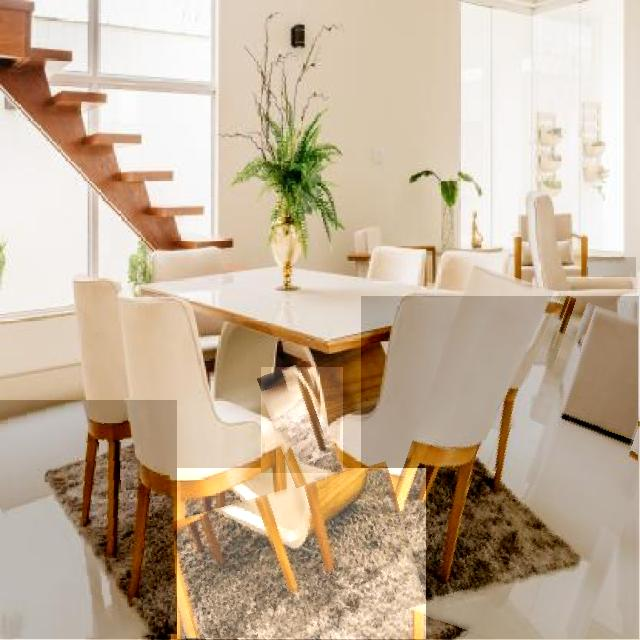floor: (362, 297, 639, 640), (173, 469, 426, 639), (0, 400, 177, 639), (262, 367, 343, 473), (495, 312, 508, 395), (588, 258, 636, 277), (495, 329, 500, 395), (495, 303, 501, 329)
